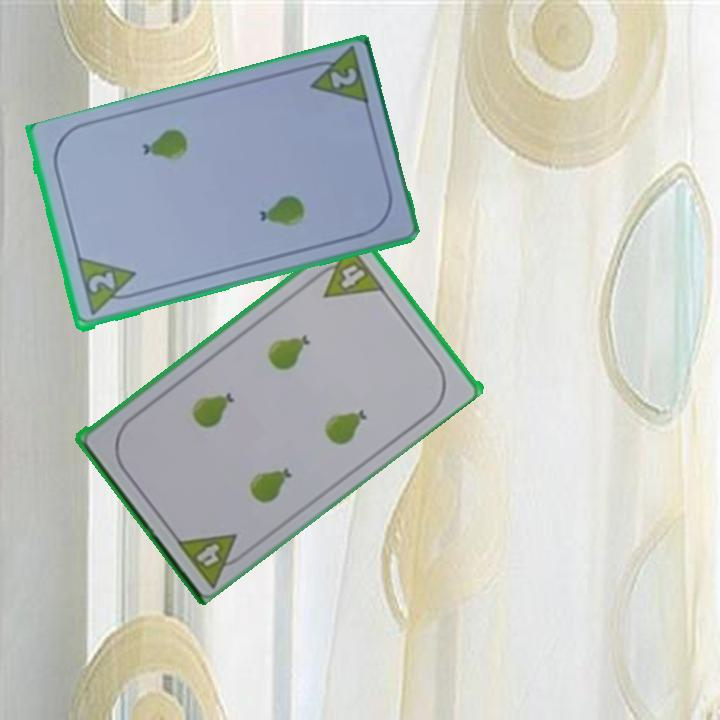2p: (73, 255, 143, 319), (326, 64, 360, 92)
4p: (323, 256, 383, 301), (192, 538, 223, 569)
